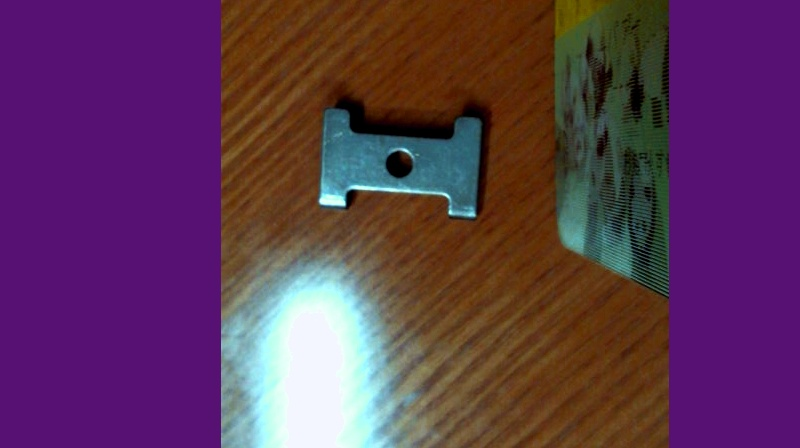O002: (316, 104, 493, 218)
